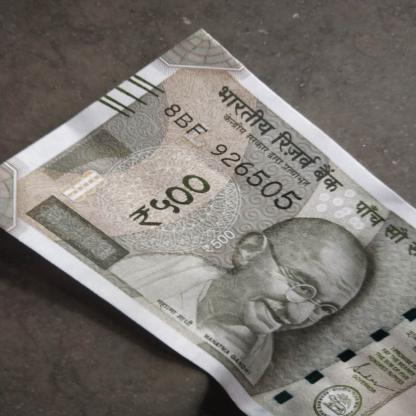New500Front: (10, 33, 415, 415)
